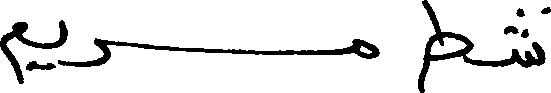ر: (65, 22, 111, 67)
ش: (501, 4, 549, 67)
ط: (423, 0, 474, 91)
م: (0, 19, 29, 84), (350, 36, 379, 59)
ي: (27, 18, 66, 72)
